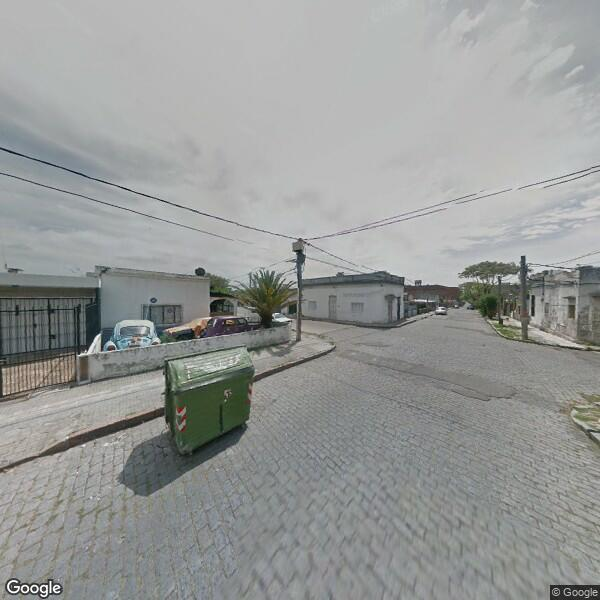Trash: (166, 345, 264, 462)
